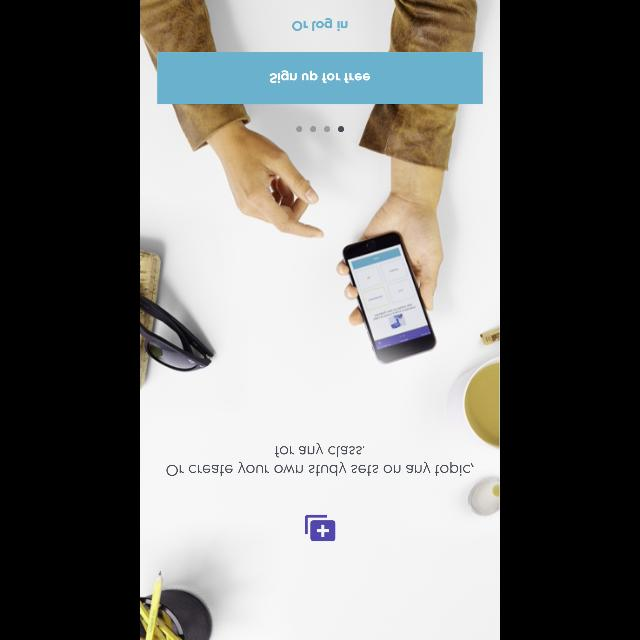backgroundimage: (140, 1, 500, 640)
icon: (304, 515, 336, 541)
pageindicator: (296, 126, 344, 132)
text: (166, 442, 474, 476), (292, 18, 348, 30)
textbutton: (158, 52, 482, 104)
